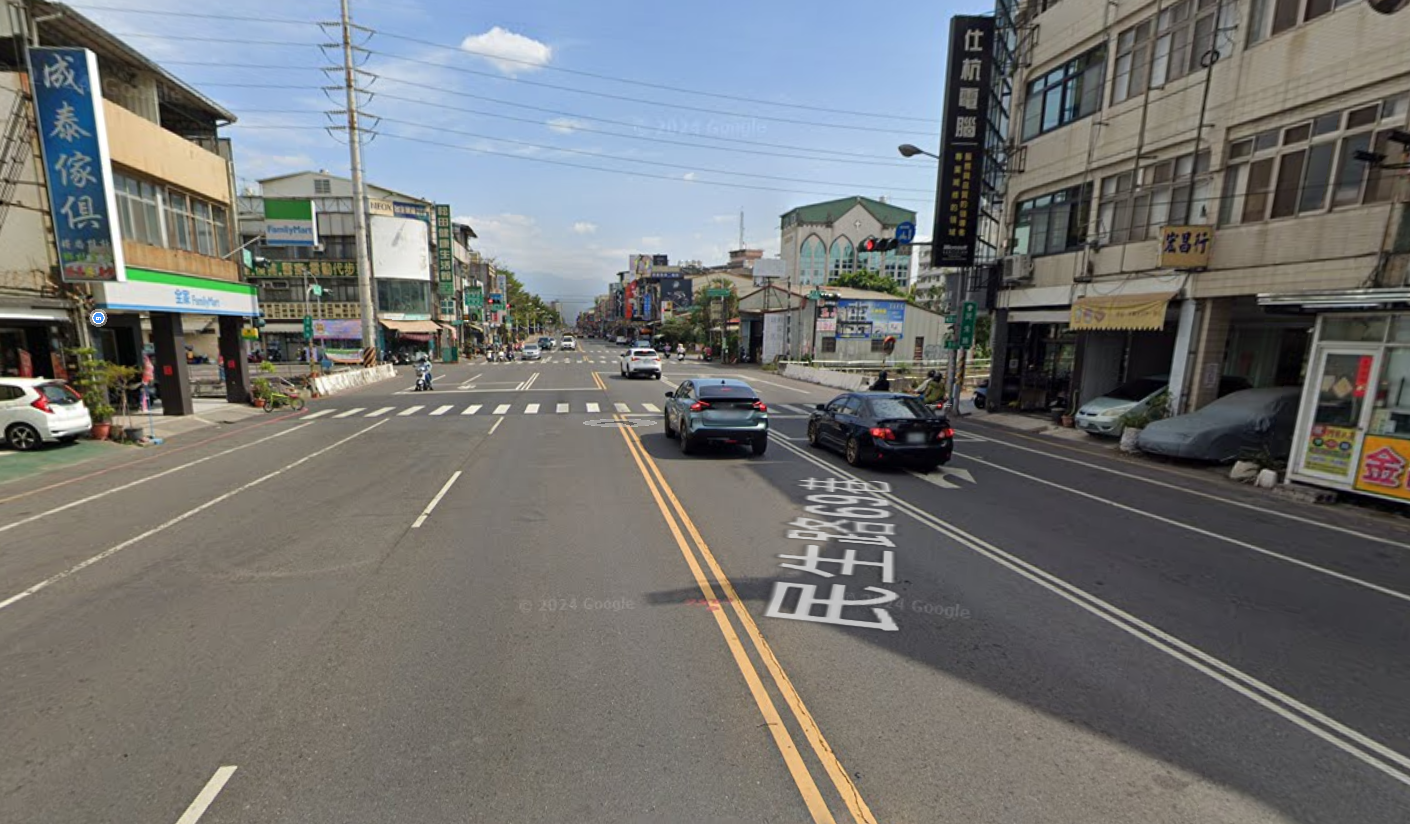red: (861, 236, 897, 256), (485, 296, 499, 306)
